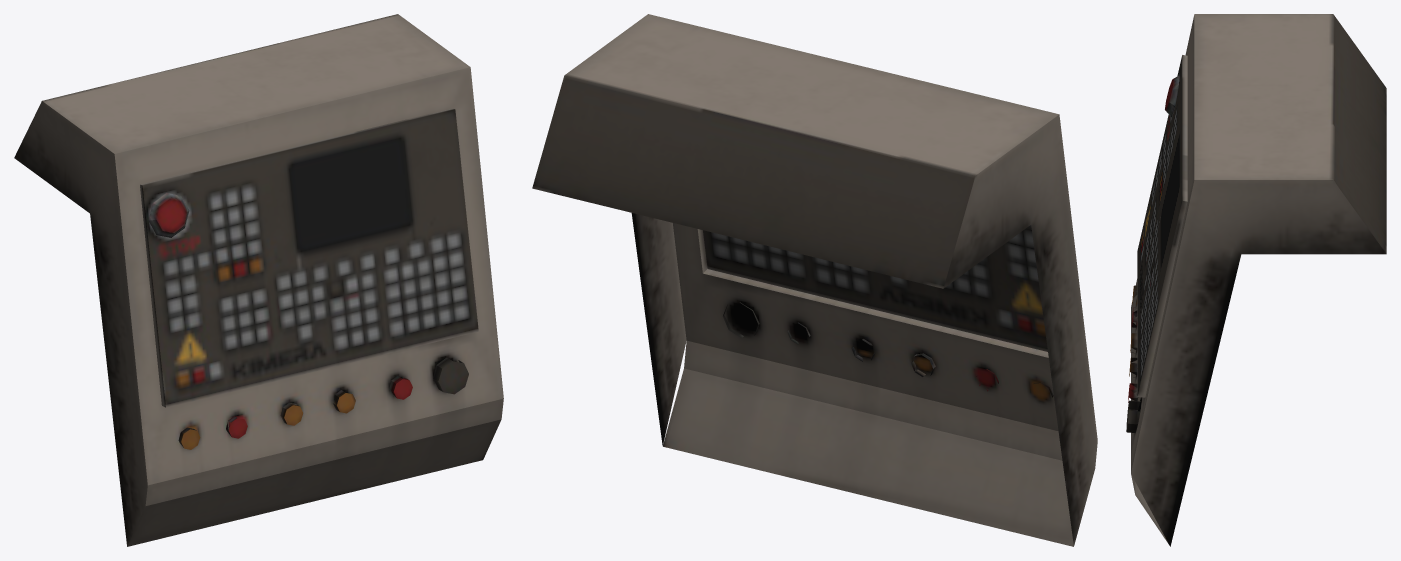
File: screen.gltf
The picture shows the model from 3 angles, left to right: view 1: azimuth 30°, elevation 25°; view 2: azimuth 150°, elevation 25°; view 3: azimuth 270°, elevation 25°; orthographic projection. The views are drawn at different scales.
Parts seen in each view (by area): view 1: SCREEN; view 2: SCREEN; view 3: SCREEN.
Boxes of the visible parts, bbox=[...] form: SCREEN: bbox=[14, 14, 503, 546]; SCREEN: bbox=[532, 14, 1097, 546]; SCREEN: bbox=[1126, 14, 1386, 546].
Size of the model in its own units: 0.6144 by 0.6328 by 0.4067.
1 material, 1 textured.
